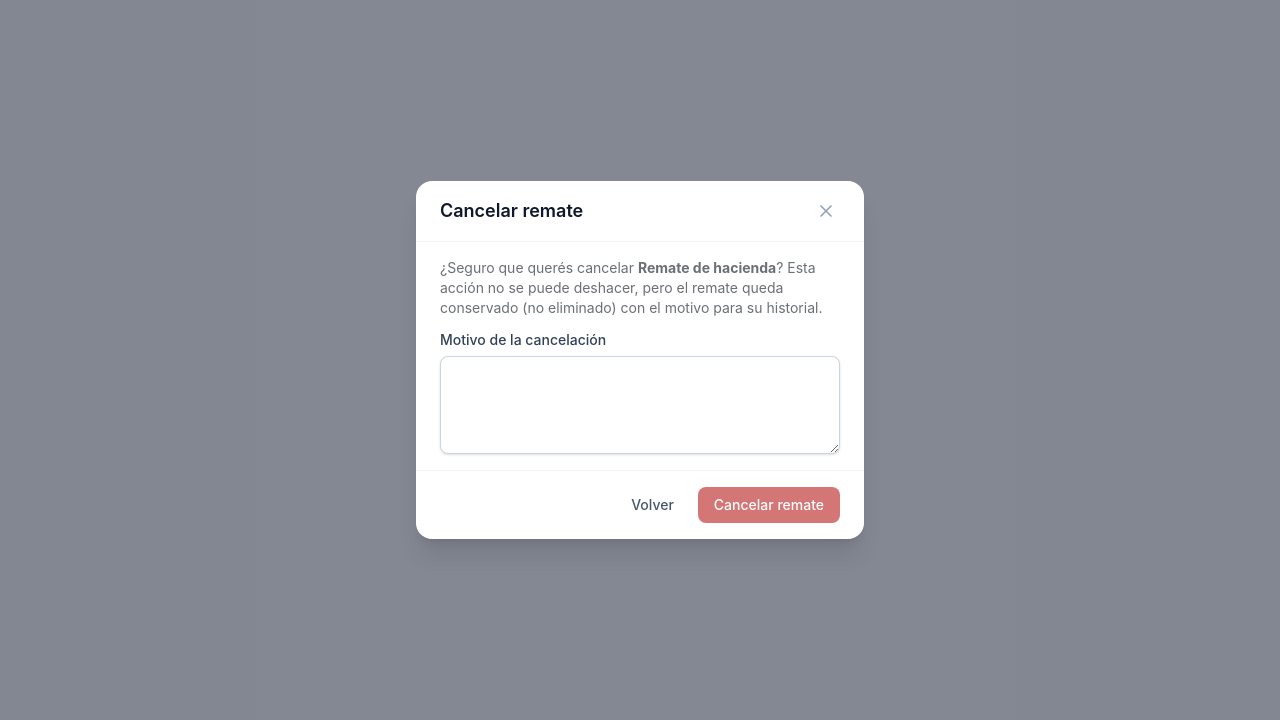
CancelRemateModal › ante un error del backend, lo muestra sin cerrar el modal
The image size is (1280, 720).
Type "Motivo válido" into the text box labelled "Motivo de la cancelación" at x=640, y=405, box [440,356,840,454]
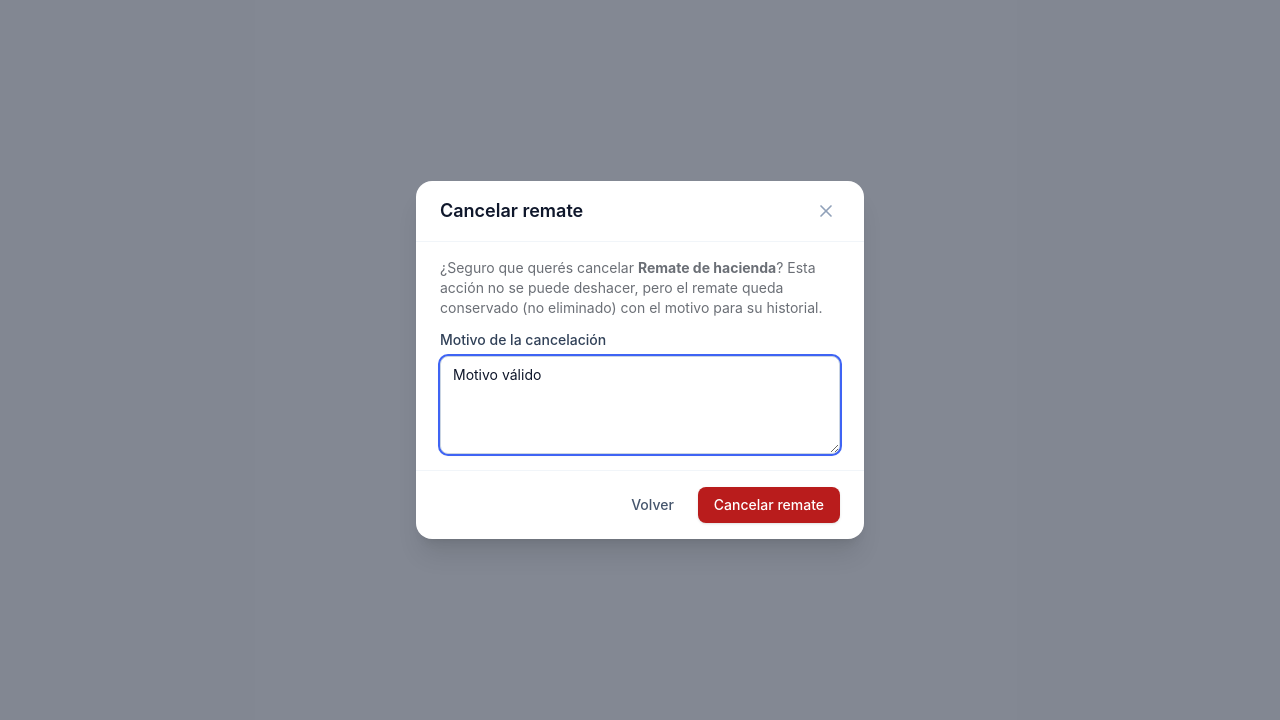
Click the button "Cancelar remate" at x=769, y=505, box [698,487,840,523]
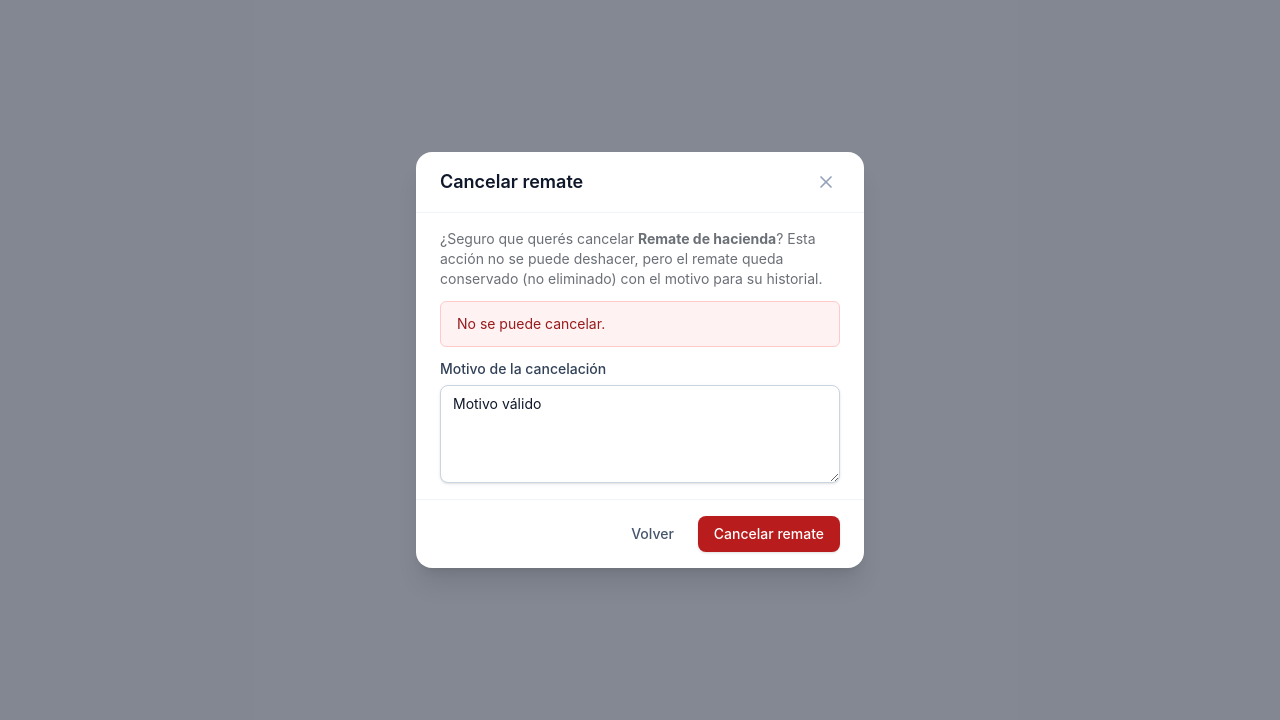
Now the text "No se puede cancelar." is shown, box [440,301,840,347]
